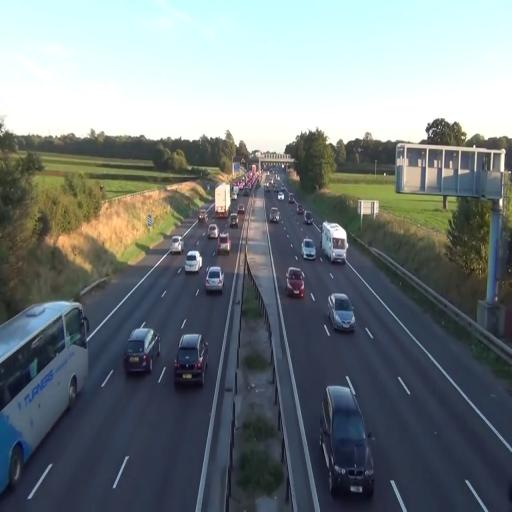vehicle: (0, 299, 90, 497), (320, 384, 375, 497), (173, 332, 207, 388), (124, 325, 160, 375), (326, 292, 356, 334), (320, 221, 348, 265), (214, 182, 231, 220), (286, 267, 306, 299), (205, 266, 224, 294), (184, 251, 203, 274), (302, 238, 316, 260), (218, 232, 231, 253), (170, 236, 184, 254), (270, 208, 280, 223), (208, 224, 218, 239)
